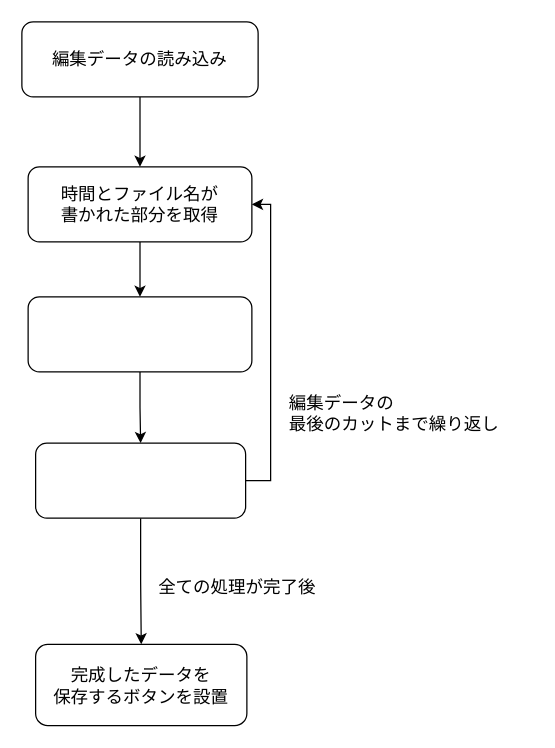
Some shapes in this 555 by 748 pixel diagram are drawn without their labels. The centre of each missing label's shape, as x and y in pixels:
"CUEシートに 貼り付けられる表示に" goes at point (140, 480).
"時間を変換" goes at point (139, 334).
